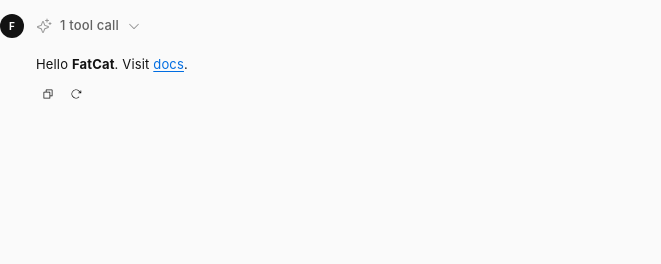
Scenario: conversation experience › renders markdown and expandable Hermes tool activity
This screenshot has width=661, height=264.
Expected: the text "FatCat" is shown, [72, 56, 115, 72]
Click the button "1 tool call" at (88, 26), box [30, 12, 147, 40]
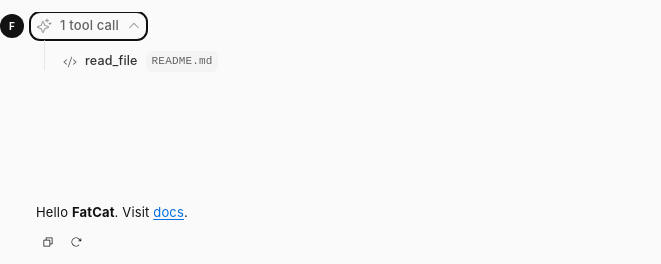
Click the button "read_file README.md" at (111, 61), box [57, 48, 644, 76]
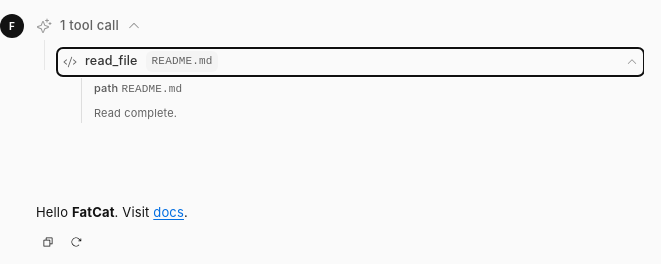
Expected: the text "README.md" is shown 2 times, [146, 51, 218, 72]; [121, 82, 182, 94]
Expected: the text "Read complete." is shown, [94, 106, 177, 120]
